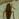cockroach: (5, 3, 12, 19)
